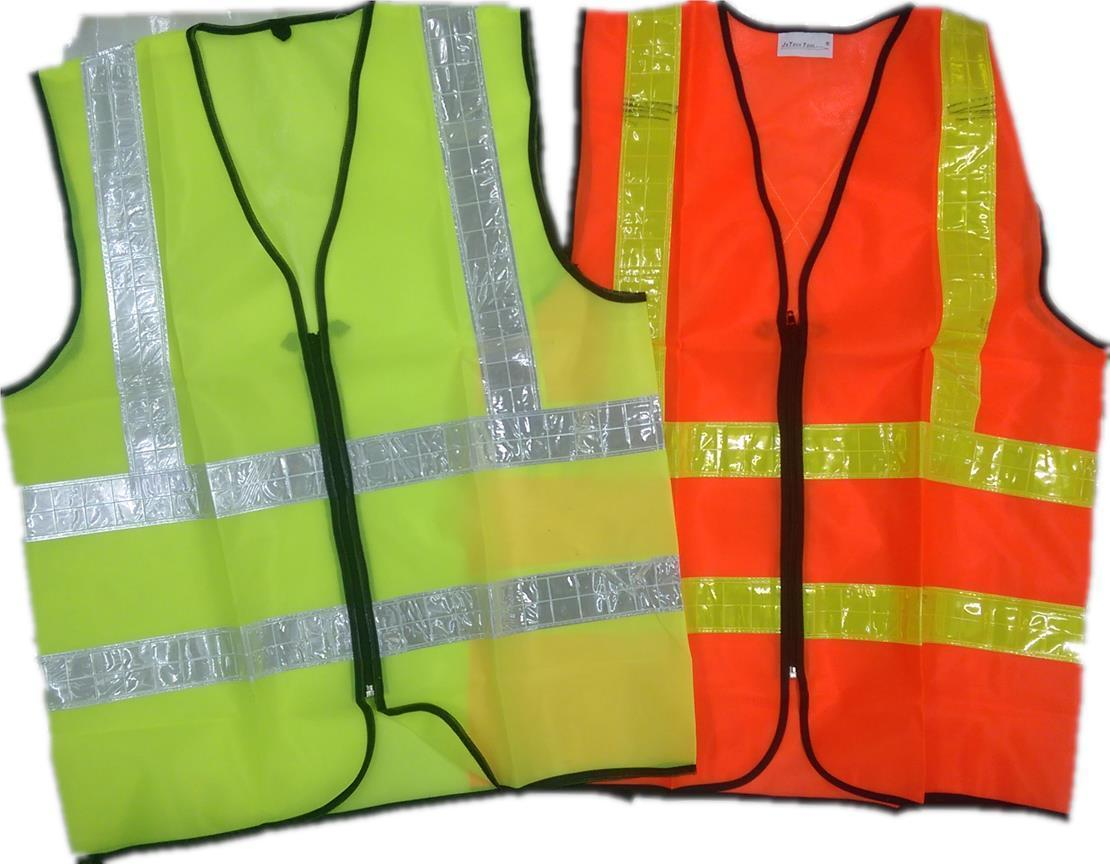Glass: (0, 0, 675, 843)
